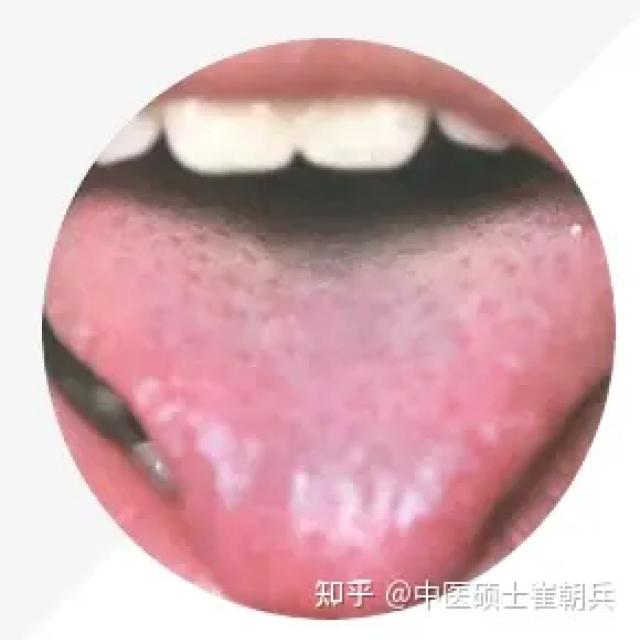tongue: (51, 187, 608, 526)
